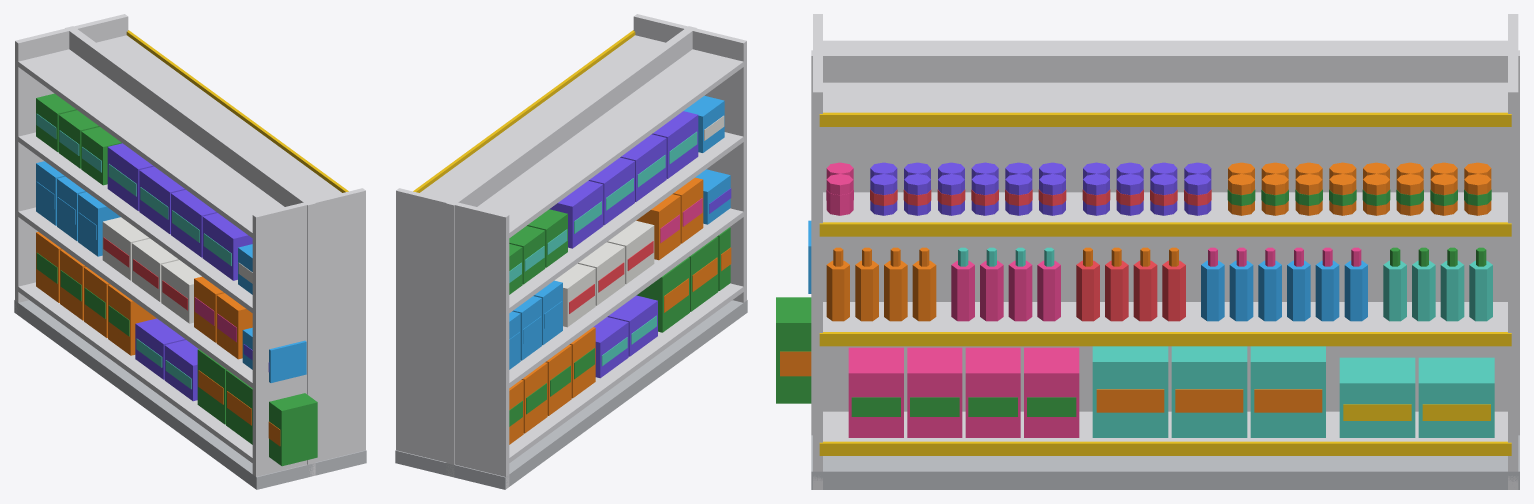
Rendered from gondola.glb.
3 views of the same model, side by side, from view 1: azimuth 30°, elevation 25°; view 2: azimuth 150°, elevation 25°; view 3: azimuth 270°, elevation 25° (orthographic). The views are drawn at different scales.
Parts seen in each view (by area): view 1: gondola; view 2: gondola; view 3: gondola.
Boxes of the visible parts, bbox=[...] form: gondola: bbox=[14, 14, 366, 489]; gondola: bbox=[395, 14, 747, 489]; gondola: bbox=[776, 14, 1519, 489].
Bounding box in the file's own units: 1.12 × 2.6 × 4.41.
